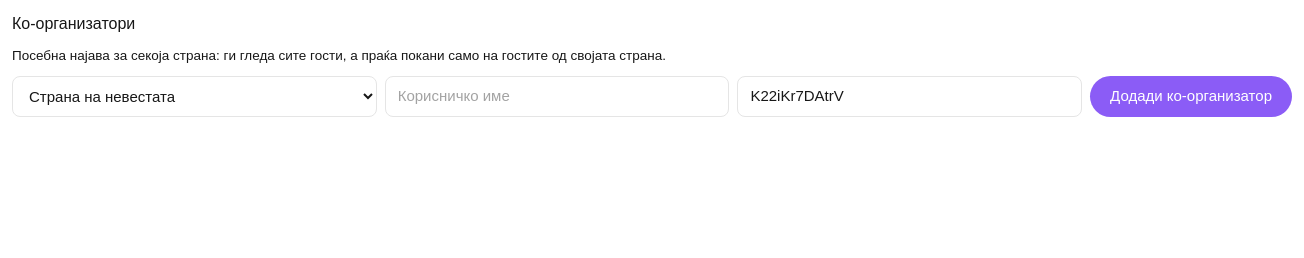
CoOrganizersPanel (A12) › adds one with a generated password and shows the login details to pass on once
Select "Страна на младоженецот" in the dropdown named "Страна на ко-организаторот": (194, 97) [12,76,377,117]
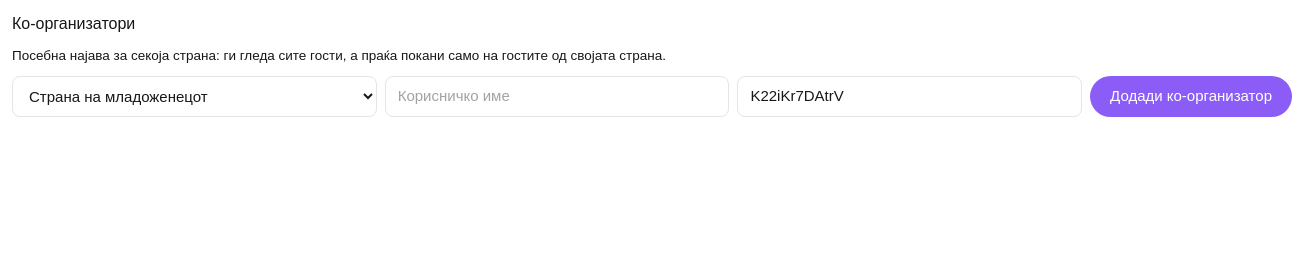
In the field labelled "Корисничко име": (557, 97) [385,76,729,117], type "mladozenec-marko"
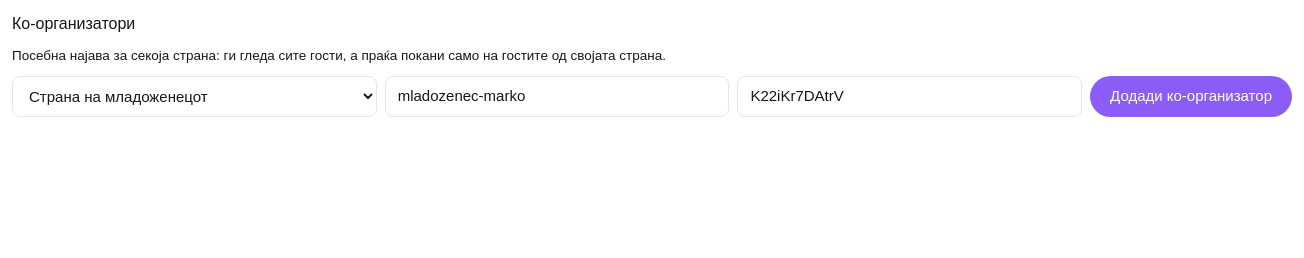
Click the button "Додади ко-организатор": (1191, 97) [1090,76,1292,117]
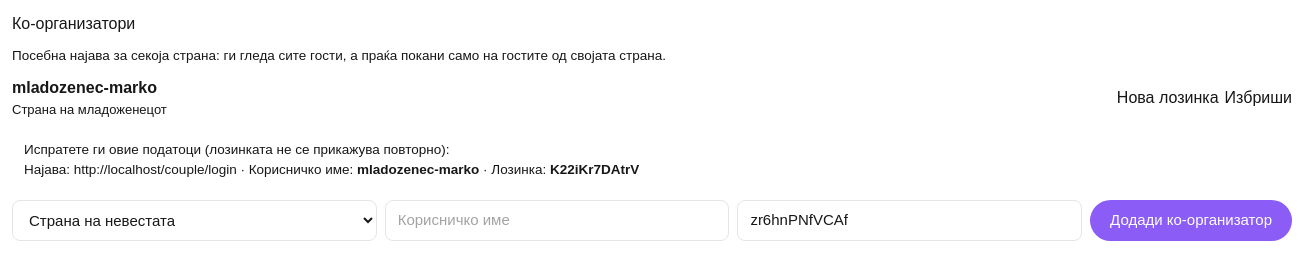
Check: the message shows "mladozenec-marko", box [357,162,479,177]
Check: the message shows "/couple/login", box [161,162,357,177]
Check: the 1st text "mladozenec-marko" is shown, box [12,79,157,96]
